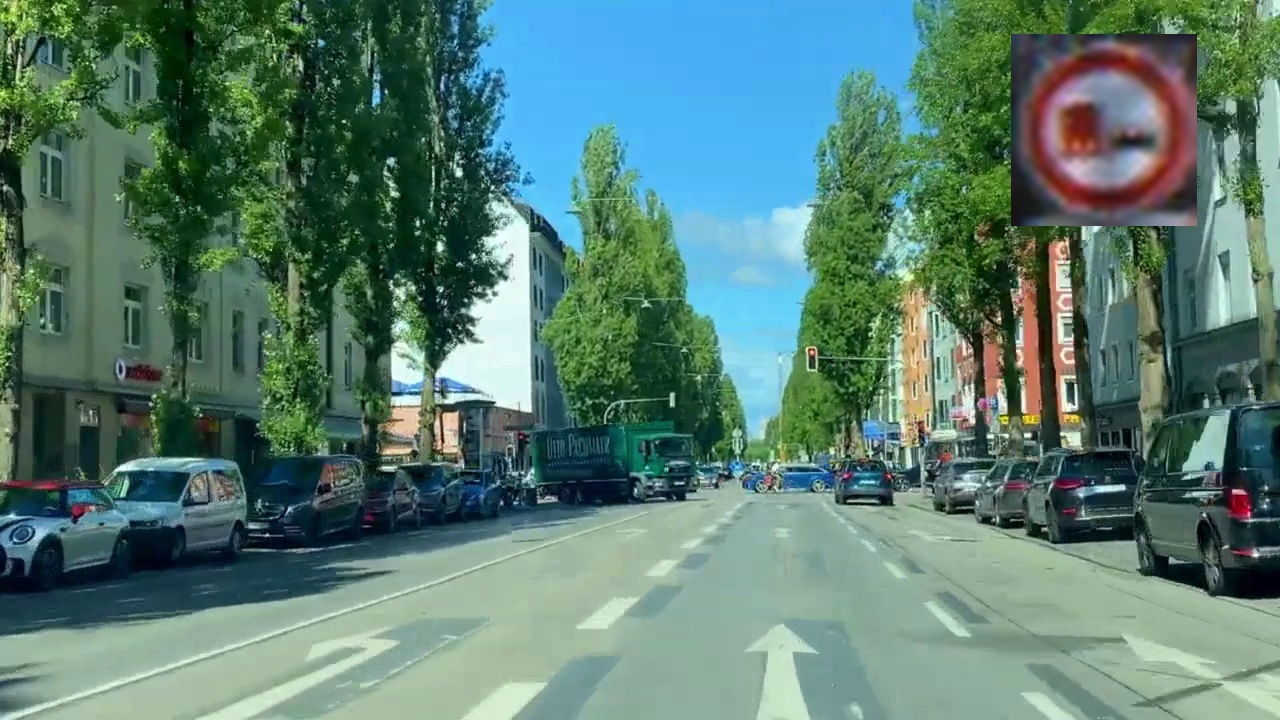No pass >3.5t: (1011, 34, 1197, 226)
